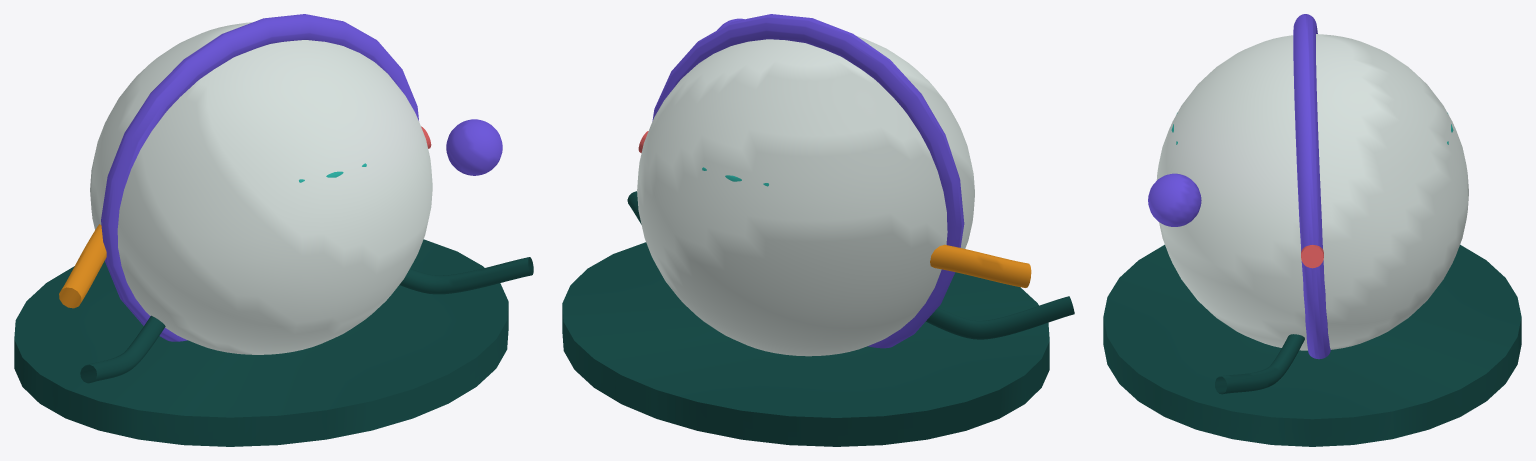
The model's file is 0429_微生物图鉴_多头绒泡菌.glb.
3 views of the same model, side by side, from view 1: azimuth 30°, elevation 25°; view 2: azimuth 150°, elevation 25°; view 3: azimuth 270°, elevation 25° (orthographic). The views are drawn at different scales.
Visible parts, largest first — view 1: card_0429; view 2: card_0429; view 3: card_0429.
Boxes of the visible parts, bbox=[...] form: card_0429: bbox=[14, 14, 533, 446]; card_0429: bbox=[562, 14, 1074, 446]; card_0429: bbox=[1103, 14, 1521, 446].
Bounding box in the file's own units: 1.41 × 1 × 1.19.
